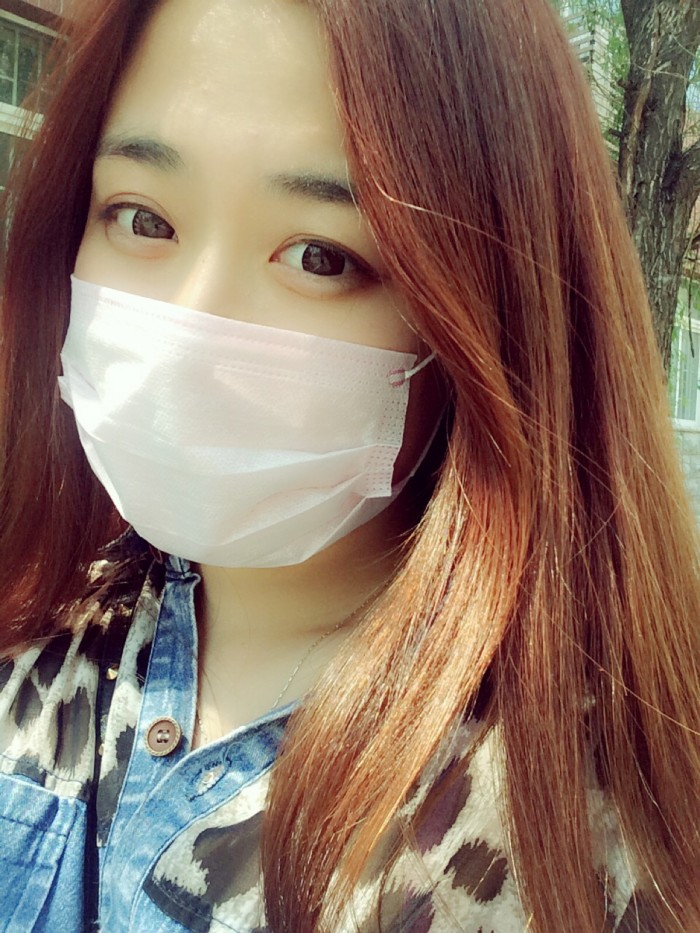face_mask: (54, 1, 426, 562)
